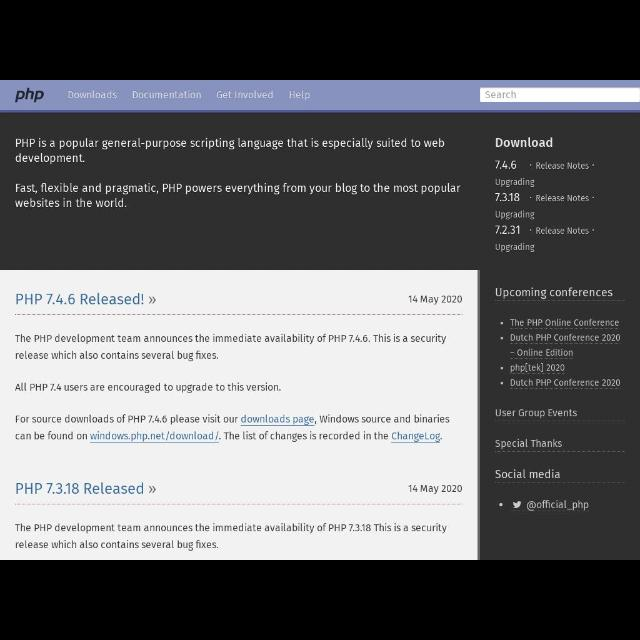icon: (512, 500, 522, 508)
image: (14, 88, 44, 102)
input: (480, 88, 640, 102)
link: (90, 432, 220, 442), (242, 415, 316, 425), (392, 432, 441, 442)
multitab: (1, 81, 639, 111)
text: (16, 414, 450, 444), (15, 523, 447, 551), (16, 334, 446, 362), (16, 182, 460, 208), (16, 139, 444, 165), (16, 382, 280, 392), (17, 482, 144, 494), (495, 287, 613, 299), (16, 294, 156, 304), (500, 318, 620, 326), (501, 334, 621, 342), (500, 379, 620, 387), (496, 409, 578, 419), (496, 438, 562, 449), (133, 90, 201, 100), (496, 136, 552, 148), (501, 363, 565, 373), (527, 500, 589, 510), (496, 469, 560, 478), (409, 484, 463, 494), (530, 162, 594, 170), (530, 194, 594, 202), (511, 348, 574, 356), (217, 90, 273, 98), (530, 228, 594, 235), (409, 296, 463, 304), (68, 91, 118, 99), (496, 178, 534, 188), (496, 212, 534, 220), (496, 244, 534, 252), (486, 91, 516, 99), (494, 226, 520, 234), (290, 90, 310, 100), (496, 160, 516, 170), (496, 194, 520, 202)
